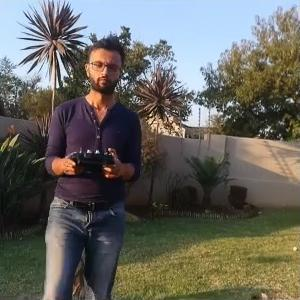follow: (33, 35, 140, 298)
